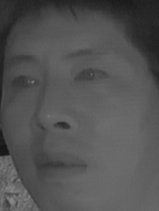eye: (71, 64, 115, 88), (7, 73, 42, 93)
mouth: (31, 145, 89, 185)
